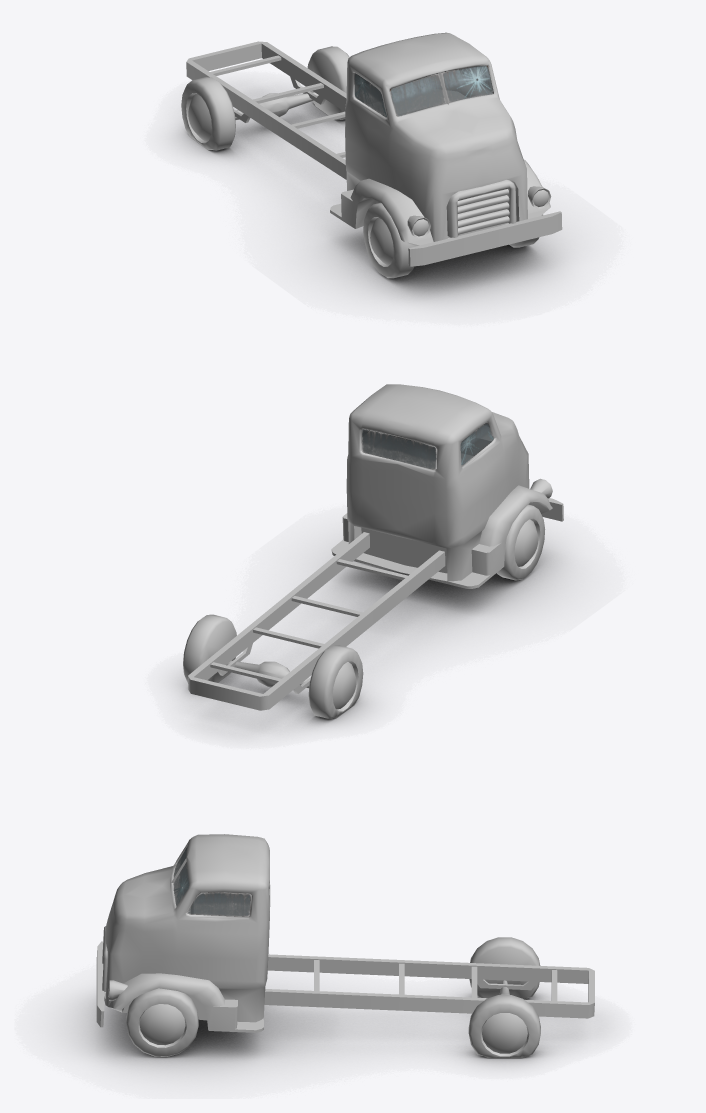
3 renders of one model, top to bottom at view 1: azimuth 30°, elevation 25°; view 2: azimuth 150°, elevation 25°; view 3: azimuth 270°, elevation 25°, orthographic. The views are drawn at different scales.
Parts seen in each view (by area): view 1: Object001_Material #76_0, Plane001, Object002_Material #77_0; view 2: Object001_Material #76_0, Plane001, Object002_Material #77_0; view 3: Object001_Material #76_0, Plane001, Object002_Material #77_0.
Part boxes in pixels (x1,y1,x2,y2): Object001_Material #76_0: [181, 32, 562, 278]; Plane001: [178, 90, 558, 300]; Object002_Material #77_0: [354, 65, 493, 117]; Object001_Material #76_0: [183, 384, 563, 718]; Plane001: [180, 544, 561, 729]; Object002_Material #77_0: [362, 423, 493, 469]; Object001_Material #76_0: [96, 834, 594, 1058]; Plane001: [79, 991, 582, 1068]; Object002_Material #77_0: [173, 846, 250, 916].
Bounding box in the file's own units: 280 × 155 × 550.
